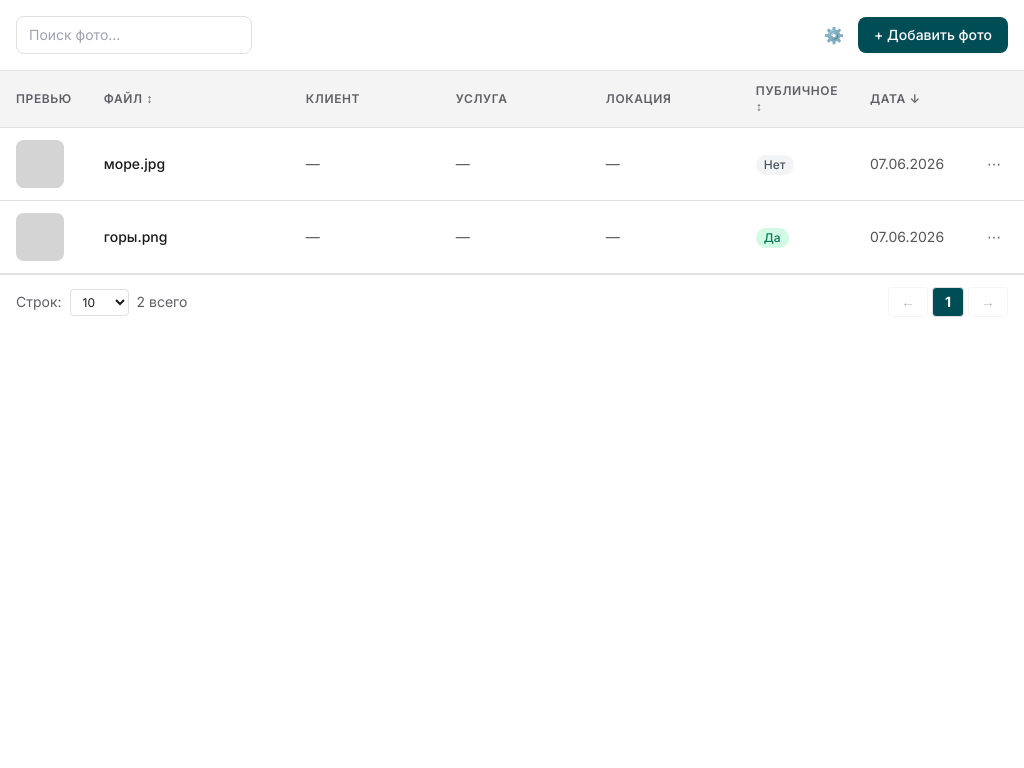
PhotosTable delete flow — full pipeline (GH #324 §9.1/§9.2) › §9.1 clean photo: «Удалить» → NO window.confirm → row gone + ring toast; «Отменить» → row back, no DELETE
Check: the text "море.jpg" is shown, box [104,155,165,172]
Click the button "⋯" in the row of "море.jpg".
click(994, 164)  # box [980,150,1008,178]
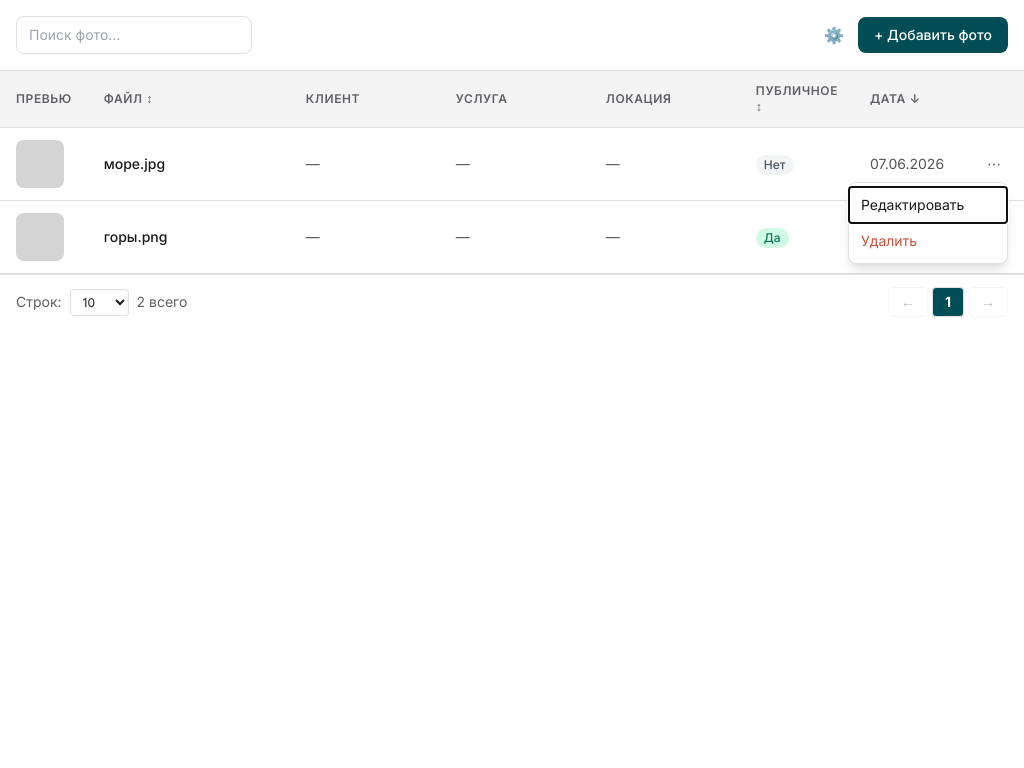
Click the menu item "Удалить".
click(928, 241)  # box [849,223,1007,259]
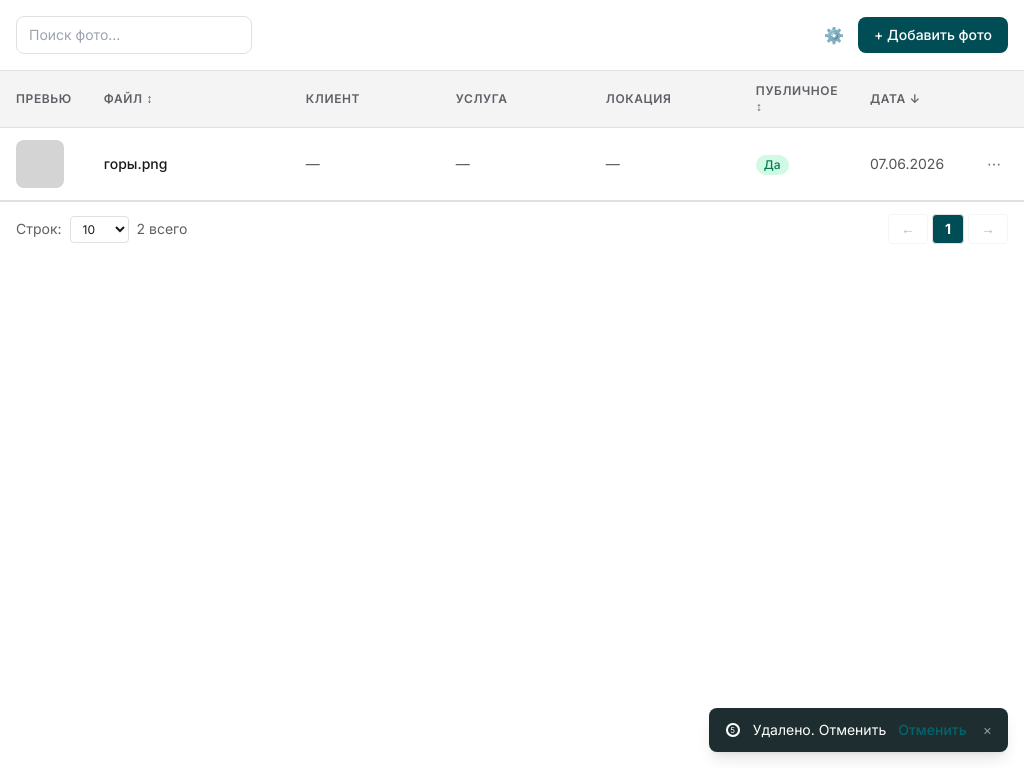
Check: the row with test id "photo-row-p-1" is gone
Check: the text "Удалено. Отменить" is shown, box [753,720,886,740]
Check: the element with test id "toast-countdown" is shown, box [725,722,741,738]
Click the button "Отменить".
click(932, 730)  # box [898,720,967,740]
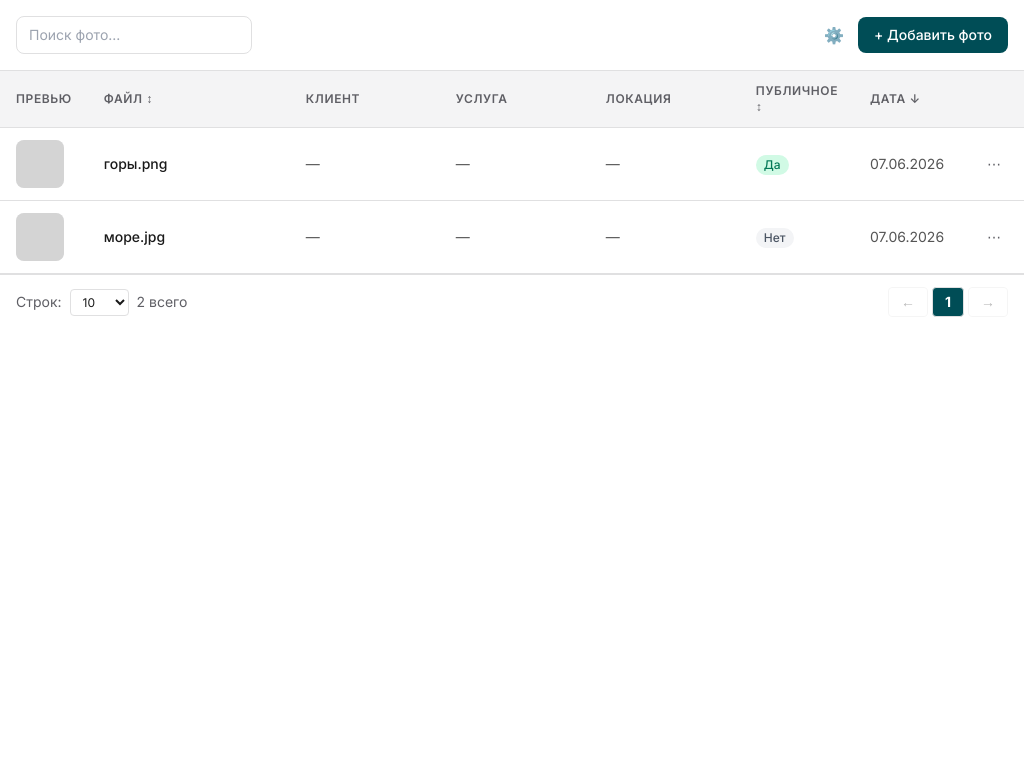
Check: the row with test id "photo-row-p-1" is shown, box [0,200,1023,274]
